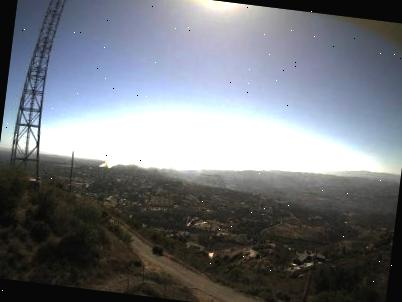smoke: (97, 138, 214, 182)
